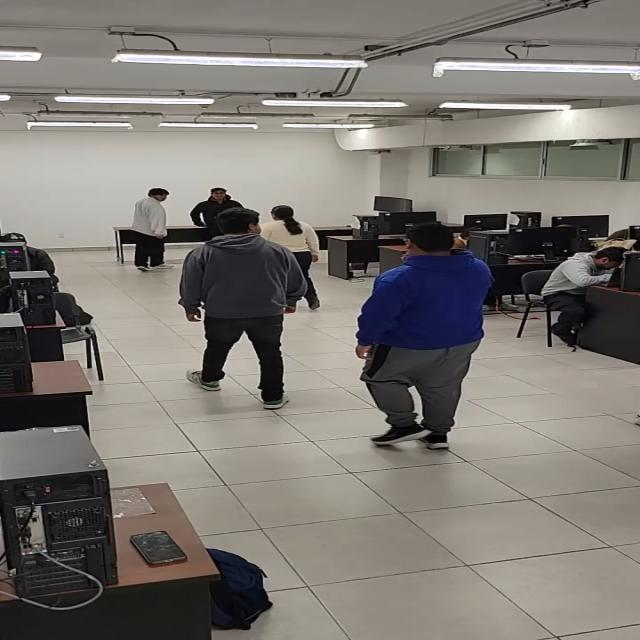Persona: (354, 221, 493, 450), (178, 207, 310, 412), (259, 206, 326, 309), (128, 188, 176, 273), (190, 187, 246, 236)
